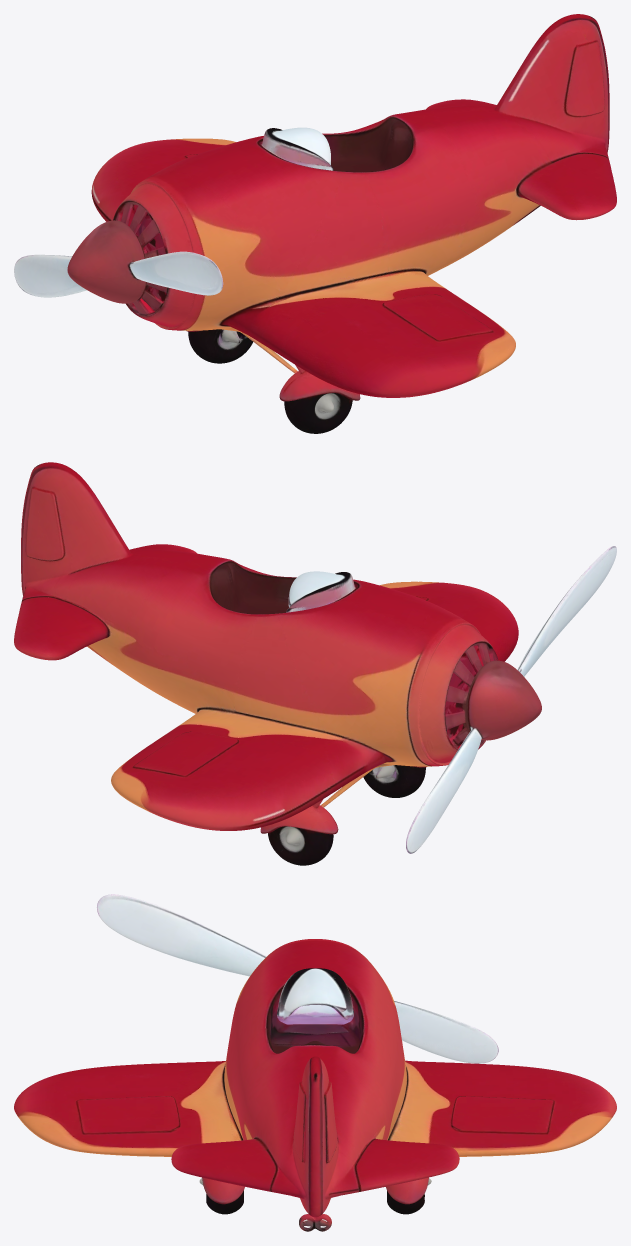
File: Aeroplano.glb
3 views of the same model, one above another, from view 1: azimuth 30°, elevation 25°; view 2: azimuth 150°, elevation 25°; view 3: azimuth 270°, elevation 25° (orthographic). The views are drawn at different scales.
Size of the model in its own units: 1.85 by 1.01 by 1.9.
1 material, 1 textured.
